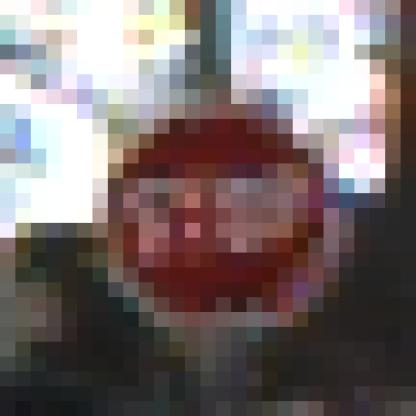stop: (74, 103, 360, 344)
